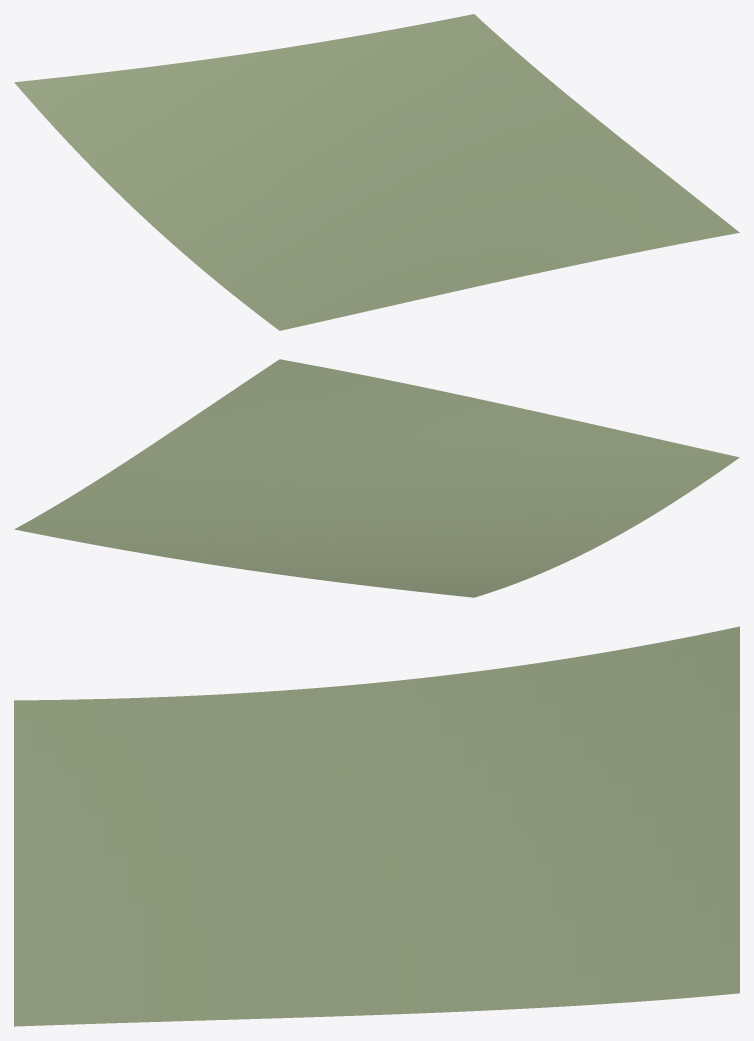
The model's file is alpine-15-14.glb.
The picture shows the model from 3 angles, top to bottom: view 1: azimuth 30°, elevation 25°; view 2: azimuth 150°, elevation 25°; view 3: azimuth 270°, elevation 25°; orthographic projection. The views are drawn at different scales.
Visible parts, largest first — view 1: alpine-15-14; view 2: alpine-15-14; view 3: alpine-15-14.
Part boxes in pixels (x1,y1,x2,y2): alpine-15-14: [14, 14, 739, 330]; alpine-15-14: [14, 359, 739, 597]; alpine-15-14: [14, 626, 739, 1026].
Bounding box in the file's own units: 256 × 36.3 × 256.
